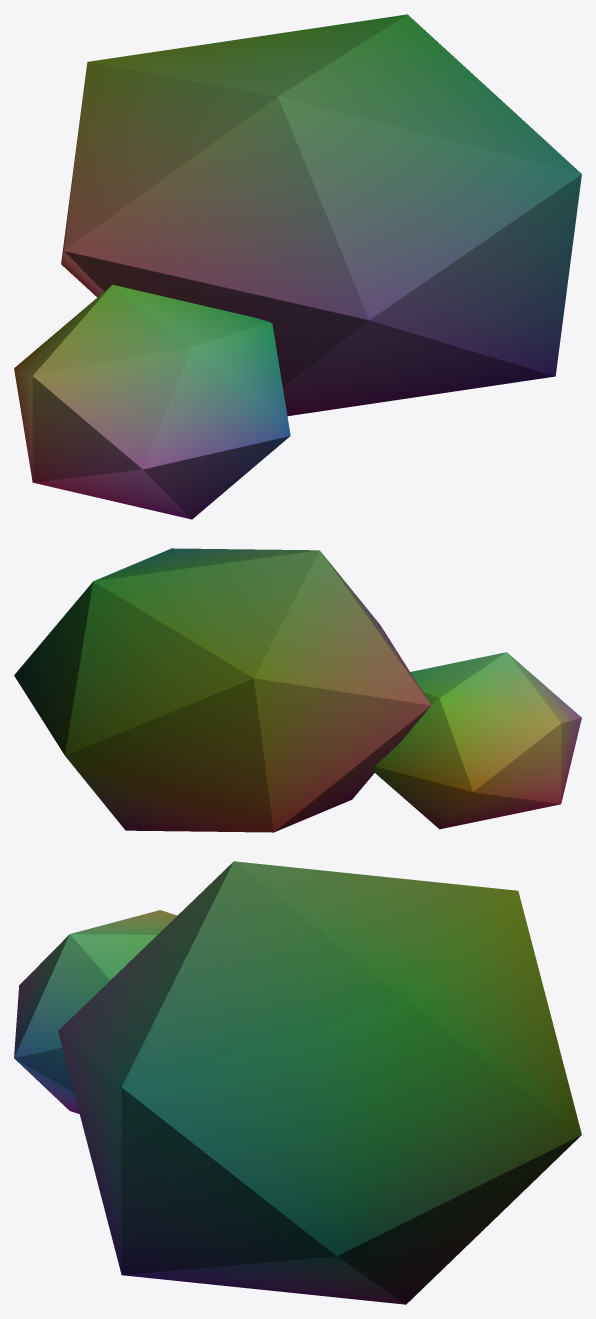
File: Rock.fbx
3 renders of one model, top to bottom at view 1: azimuth 30°, elevation 25°; view 2: azimuth 150°, elevation 25°; view 3: azimuth 270°, elevation 25°, orthographic. The views are drawn at different scales.
Visible parts, largest first — view 1: Rock; view 2: Rock; view 3: Rock.
Part boxes in pixels (x1,y1,x2,y2): Rock: (14, 14, 581, 519); Rock: (14, 548, 581, 832); Rock: (14, 861, 581, 1304).
Size of the model in its own units: 1.14 by 0.6018 by 0.8659.
